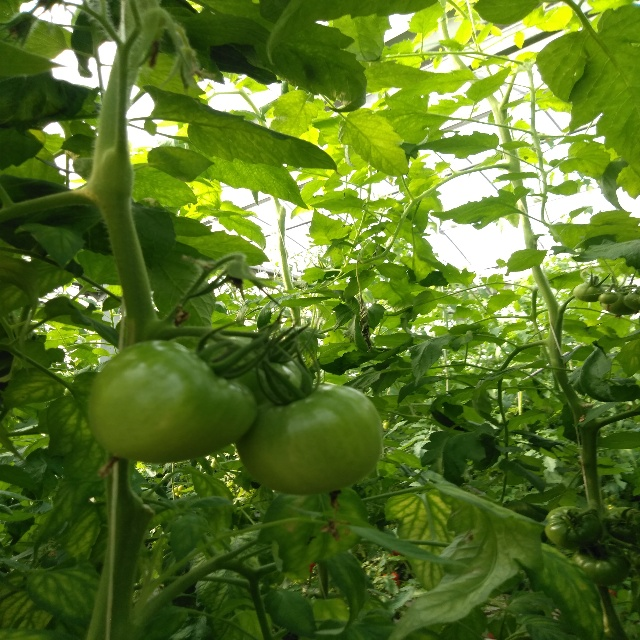b_green: (88, 339, 259, 462), (235, 381, 382, 496), (198, 333, 304, 406), (573, 542, 629, 587), (544, 506, 601, 548), (598, 506, 639, 545), (599, 291, 637, 315), (573, 282, 605, 302), (623, 291, 640, 311), (599, 291, 618, 304)
